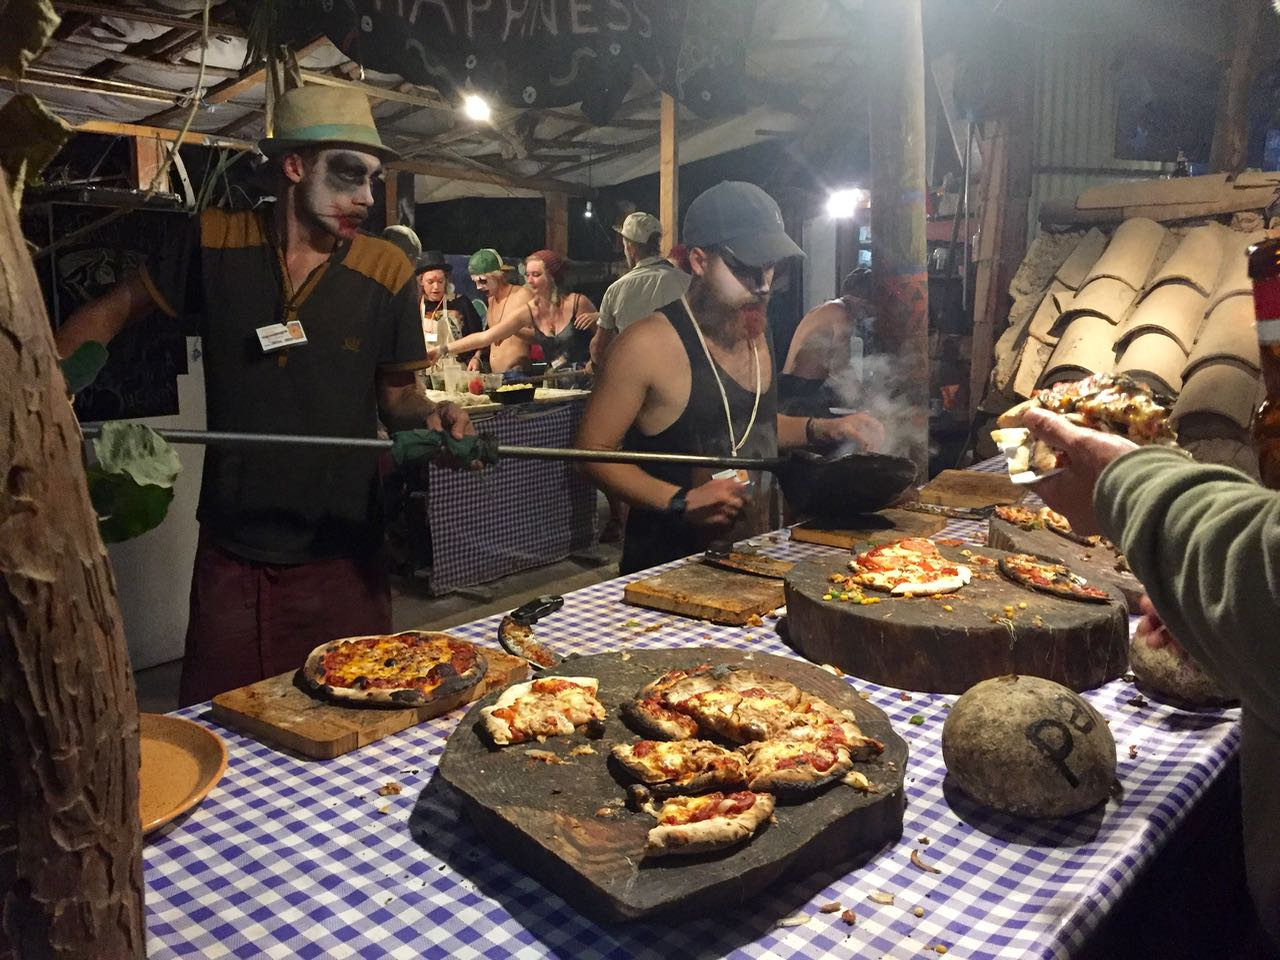Pizza: (613, 651, 888, 857), (302, 629, 491, 709), (998, 369, 1172, 437), (477, 676, 610, 752), (848, 535, 977, 598), (992, 549, 1117, 608), (992, 499, 1043, 531)
